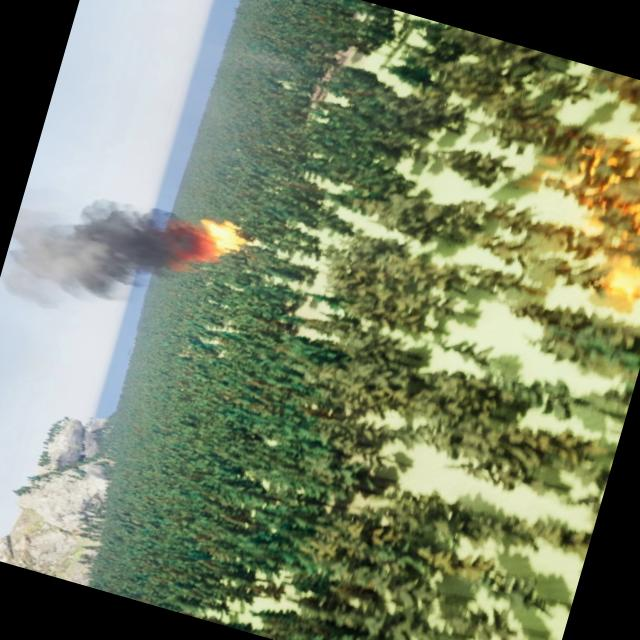fire: (523, 97, 640, 312), (192, 212, 251, 256)
smoke: (0, 171, 223, 350)
